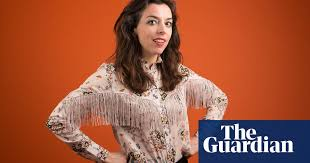white_female: (128, 1, 183, 65)
